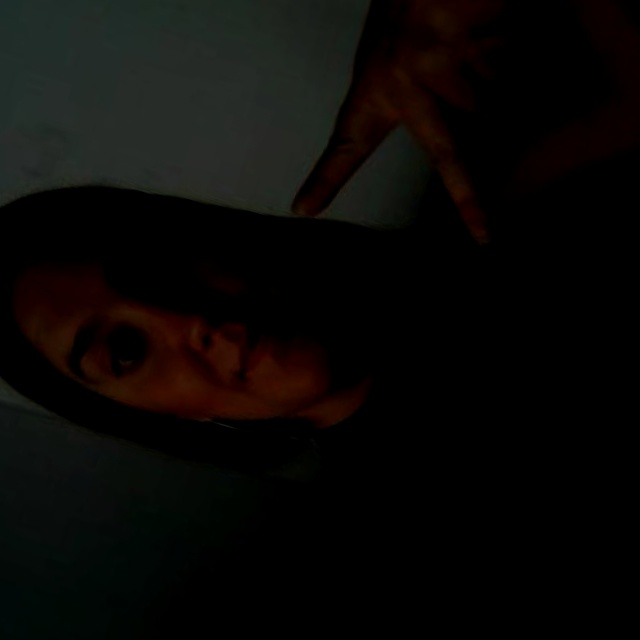Scissors: (258, 7, 564, 287)
